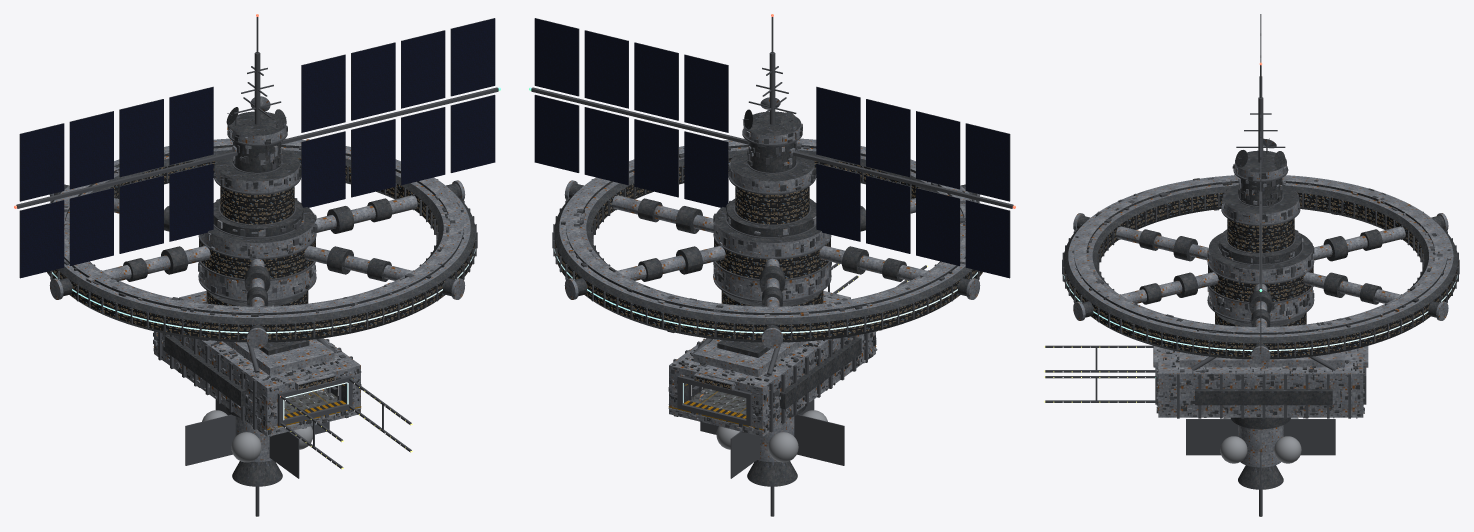
File: station.glb
The picture shows the model from 3 angles, left to right: view 1: azimuth 30°, elevation 25°; view 2: azimuth 150°, elevation 25°; view 3: azimuth 270°, elevation 25°; orthographic projection. The views are drawn at different scales.
Visible parts, largest first — view 1: station; view 2: station; view 3: station.
Boxes of the visible parts, x1,y1,x2,y2 form: station: (14,14,500,517); station: (529,14,1015,517); station: (1044,14,1459,517).
Size of the model in its own units: 332 by 328 by 272.
Materials: 19 (8 with a texture image).
